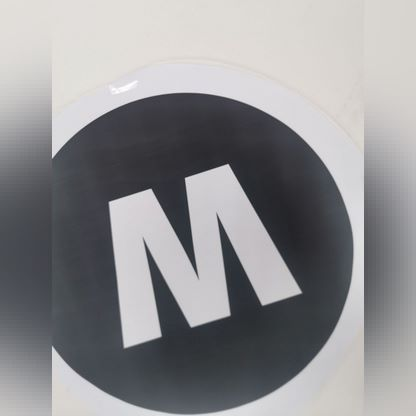W: (49, 97, 355, 404)
